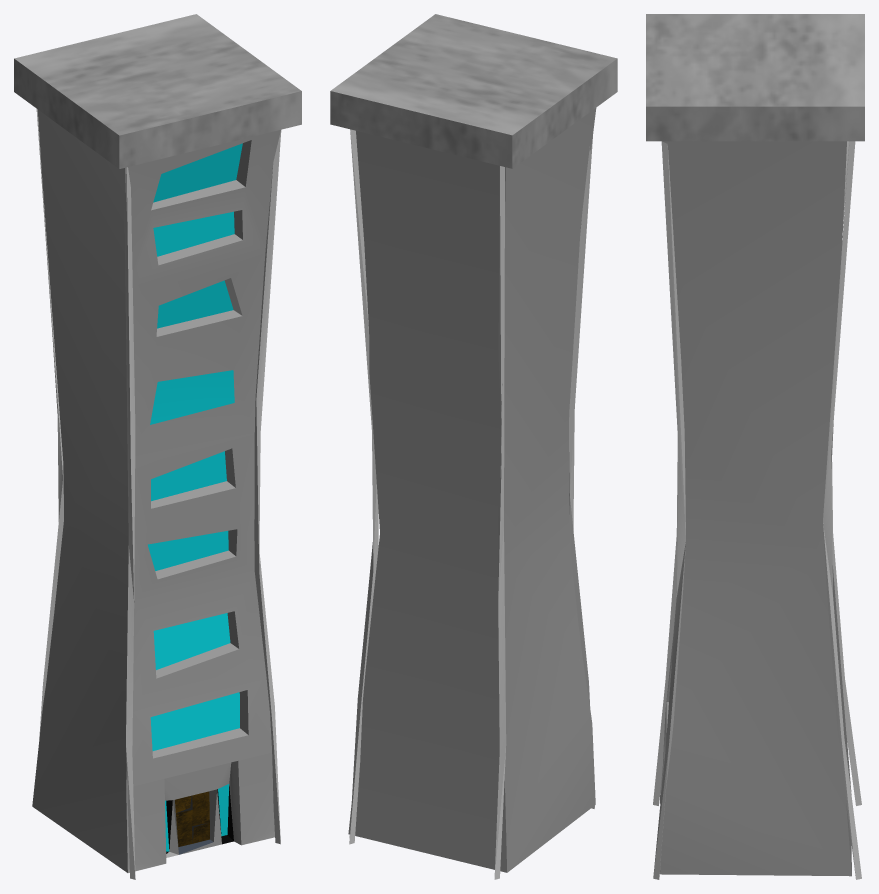
The model's file is PredioAltoFino-CinzaClaroLOD1.fbx.
The picture shows the model from 3 angles, left to right: view 1: azimuth 30°, elevation 25°; view 2: azimuth 150°, elevation 25°; view 3: azimuth 270°, elevation 25°; orthographic projection. The views are drawn at different scales.
Visible parts, largest first — view 1: PredioAltoFinoLOD1; view 2: PredioAltoFinoLOD1; view 3: PredioAltoFinoLOD1.
Boxes of the visible parts, left/top/right/bottom form: PredioAltoFinoLOD1: left=14, top=14, right=301, bottom=879; PredioAltoFinoLOD1: left=330, top=14, right=617, bottom=879; PredioAltoFinoLOD1: left=646, top=14, right=864, bottom=879.
Size of the model in its own units: 635 by 2498 by 635.
